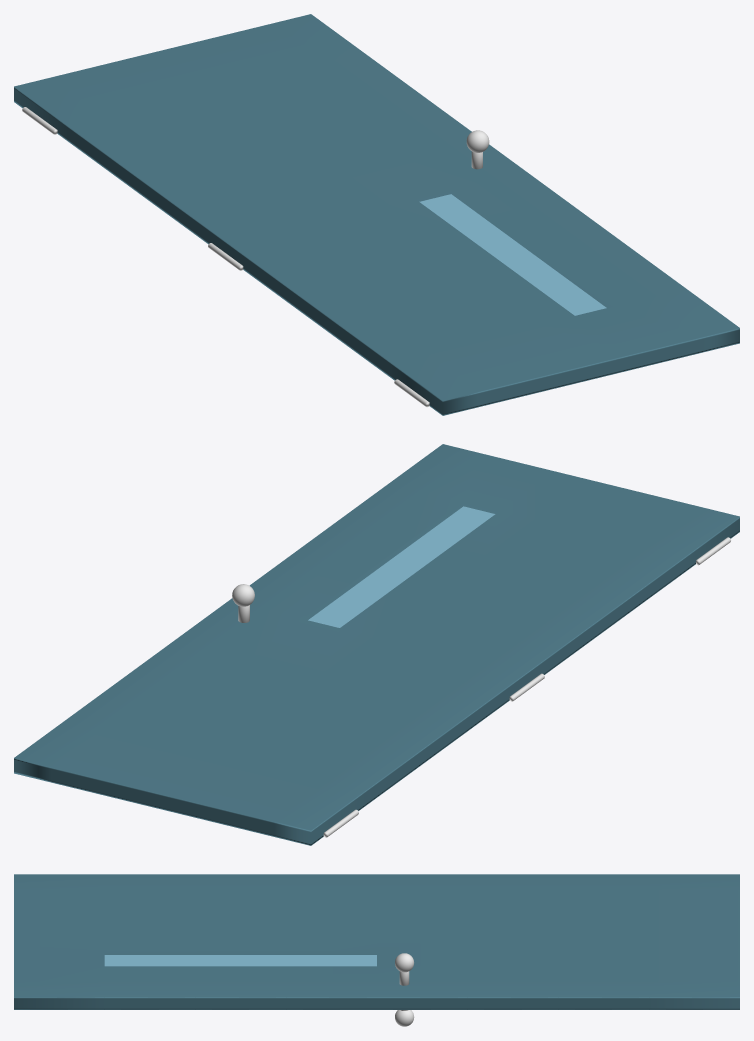
The model's file is Door.fbx.
3 renders of one model, top to bottom at view 1: azimuth 30°, elevation 25°; view 2: azimuth 150°, elevation 25°; view 3: azimuth 270°, elevation 25°, orthographic. The views are drawn at different scales.
Visible parts, largest first — view 1: Cube, Plane; view 2: Cube, Plane; view 3: Cube, Plane, Sphere, Sphere_001.
Boxes of the visible parts, left/top/right/bottom form: Cube: left=14, top=14, right=739, bottom=415; Plane: left=419, top=194, right=606, bottom=315; Cube: left=14, top=444, right=739, bottom=845; Plane: left=308, top=506, right=495, bottom=627; Cube: left=14, top=874, right=739, bottom=1009; Plane: left=104, top=955, right=376, bottom=966; Sphere: left=395, top=953, right=414, bottom=972; Sphere_001: left=395, top=1010, right=414, bottom=1026.
Bounding box in the file's own units: 6.09 × 1.64 × 15.
